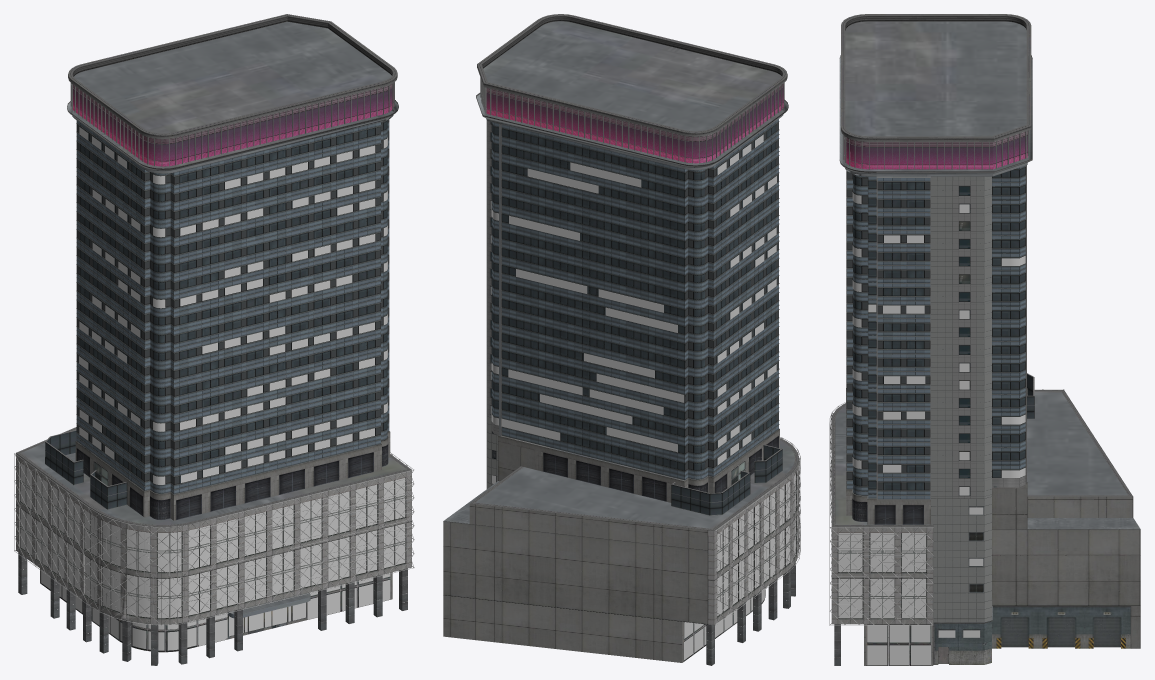
The model's file is red_band_tower.glb.
3 views of the same model, side by side, from view 1: azimuth 30°, elevation 25°; view 2: azimuth 150°, elevation 25°; view 3: azimuth 270°, elevation 25° (orthographic). The views are drawn at different scales.
Visible parts, largest first — view 1: bld; view 2: bld; view 3: bld.
Boxes of the visible parts, <box> form: bld: <box>14,14,414,665</box>; bld: <box>443,14,800,665</box>; bld: <box>829,14,1140,665</box>.
Bounding box in the file's own units: 59.28 × 106 × 56.44.
Materials: 5 (3 with a texture image).
